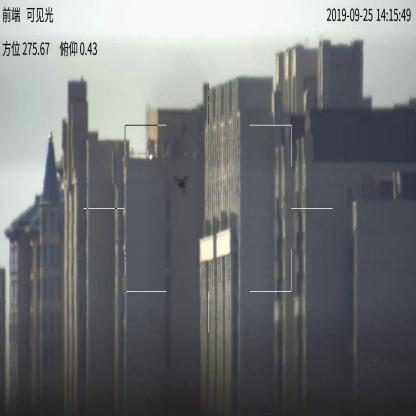uav: (174, 174, 189, 193)
